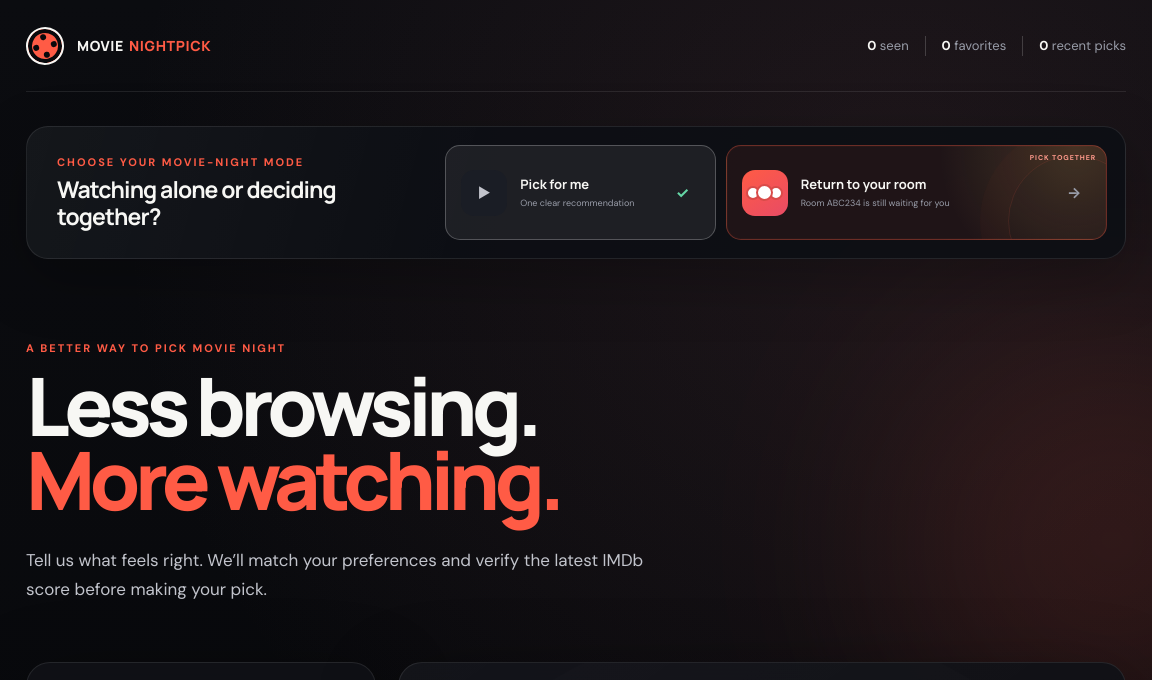
Scenario: returns to the same active room after temporarily switching to solo mode
Click the button "Return to your room": x=916, y=193 [726,145,1107,240]
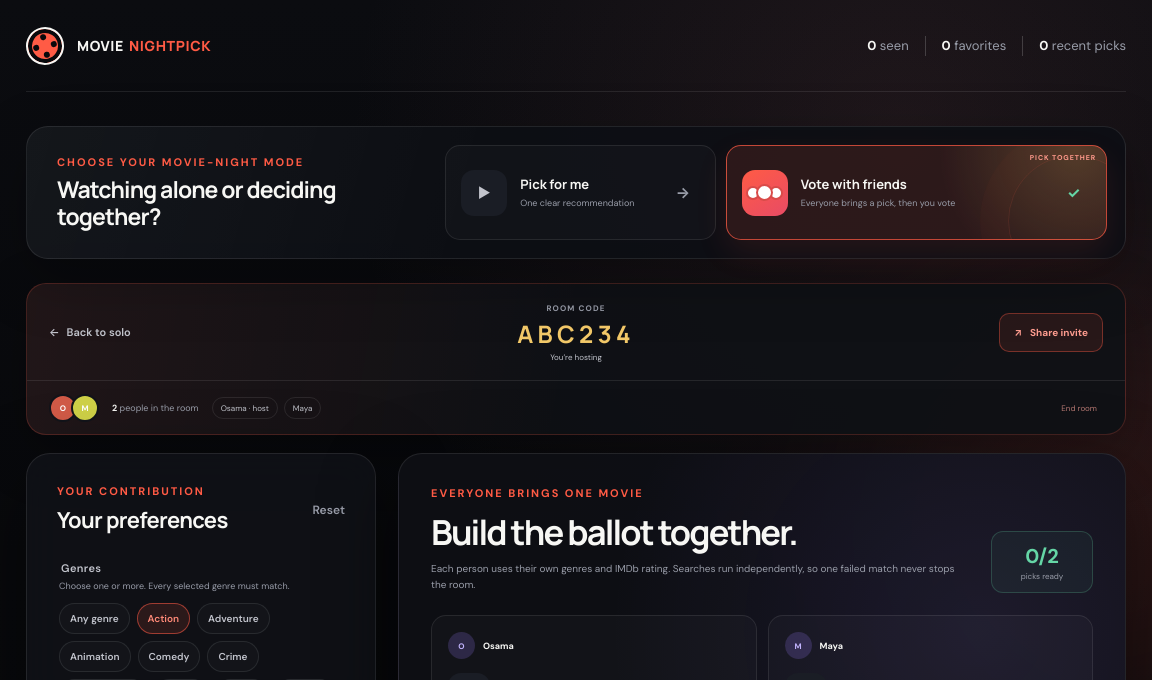
Expected: the heading "Build the ballot together." is shown, [431,508,797,555]
Click the button "▶ Pick for me One clear recommendation →": x=580, y=193 [445,145,716,240]
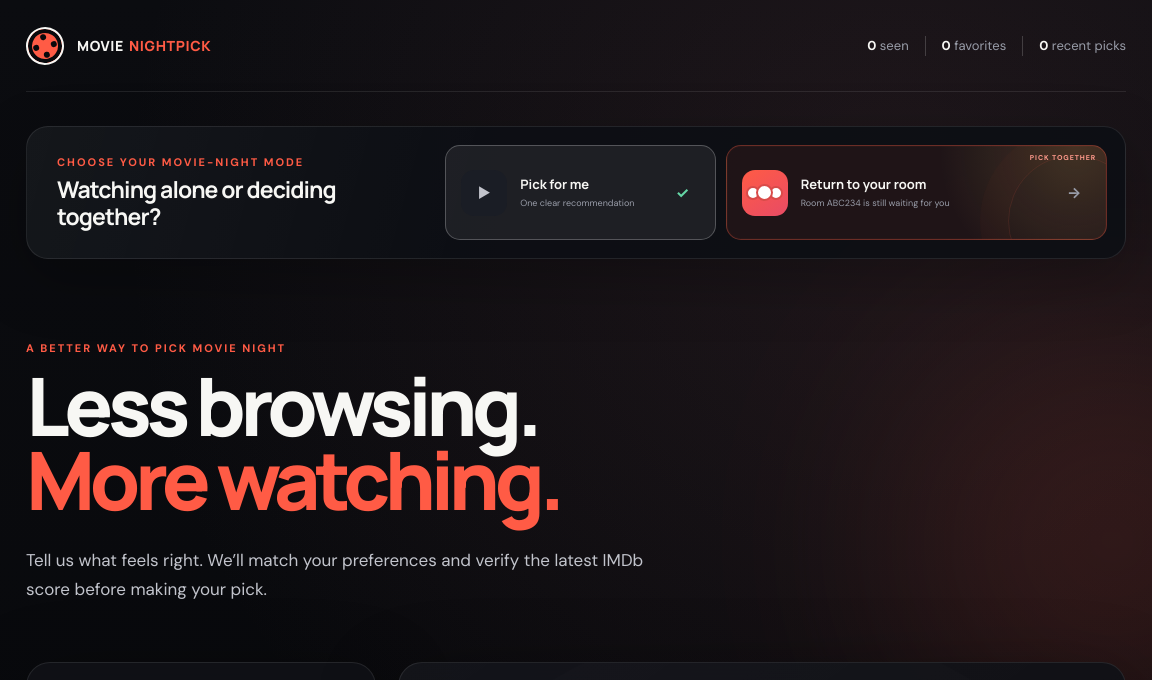
Expected: the button "Return to your room" is shown
Click the button "Return to your room": x=916, y=193 [726,145,1107,240]
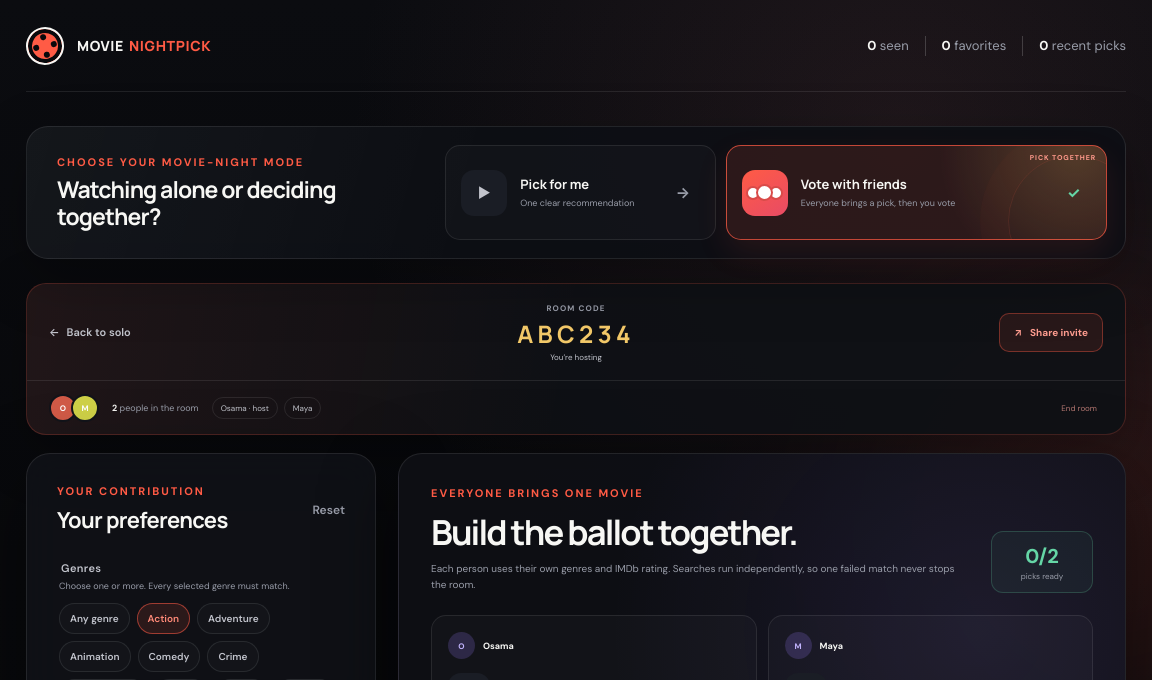
Expected: the heading "Build the ballot together." is shown, [431,508,797,555]
